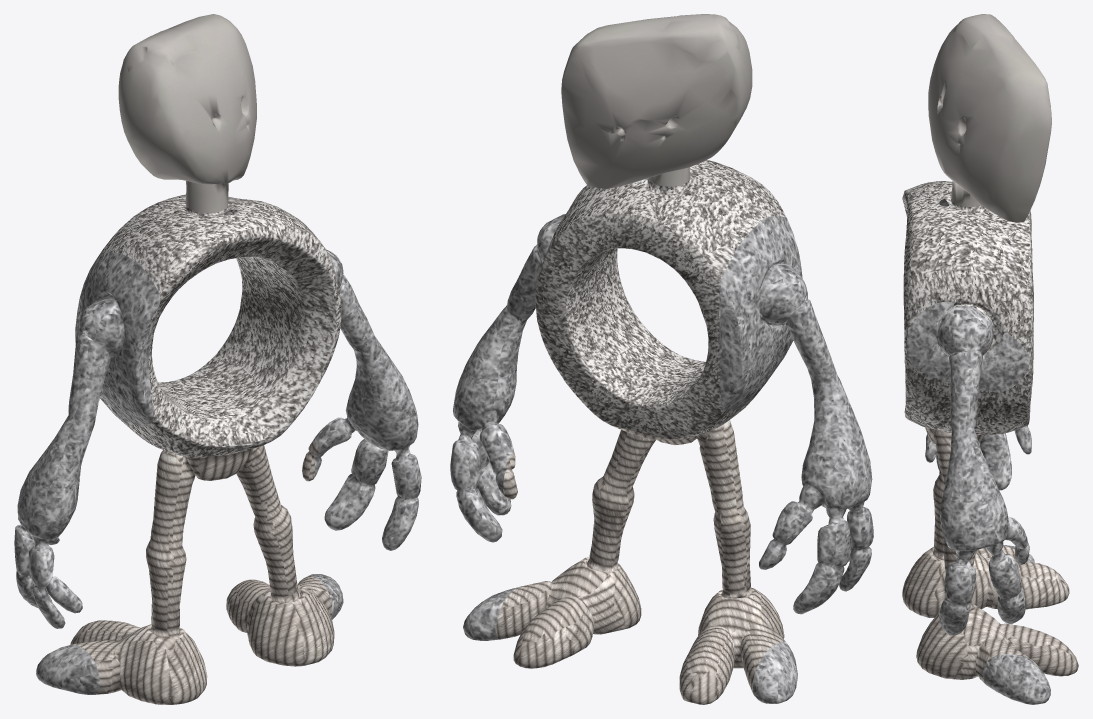
The model's file is 03-pearl-orb-ring--ringed_humanoid_3d_model.glb.
3 renders of one model, left to right at view 1: azimuth 30°, elevation 25°; view 2: azimuth 150°, elevation 25°; view 3: azimuth 270°, elevation 25°, orthographic. The views are drawn at different scales.
Parts seen in each view (by area): view 1: arms_mesh, body_mesh, feet_mesh, head_mesh; view 2: arms_mesh, body_mesh, feet_mesh, head_mesh; view 3: arms_mesh, body_mesh, head_mesh, feet_mesh.
Part boxes in pixels (<box>): arms_mesh: <box>14,249,421,694</box>; body_mesh: <box>96,194,341,457</box>; feet_mesh: <box>70,425,334,704</box>; head_mesh: <box>118,14,256,212</box>; arms_mesh: <box>450,214,873,703</box>; body_mesh: <box>535,160,785,439</box>; feet_mesh: <box>496,404,785,704</box>; head_mesh: <box>561,14,752,188</box>; arms_mesh: <box>905,199,1050,704</box>; body_mesh: <box>902,181,1033,434</box>; head_mesh: <box>928,14,1051,222</box>; feet_mesh: <box>902,391,1078,684</box>.
Size of the model in its own units: 1.95 by 3 by 0.8088.
Materials: 4 (4 with a texture image).
